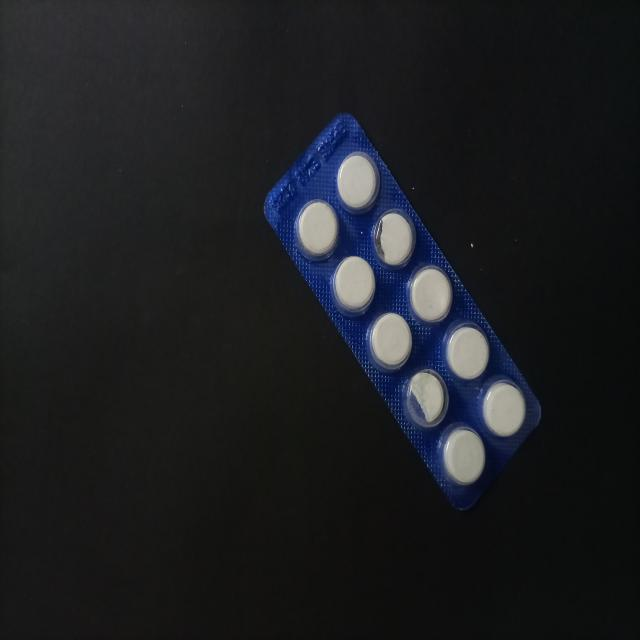defect: (402, 366, 452, 432), (370, 207, 420, 270)
